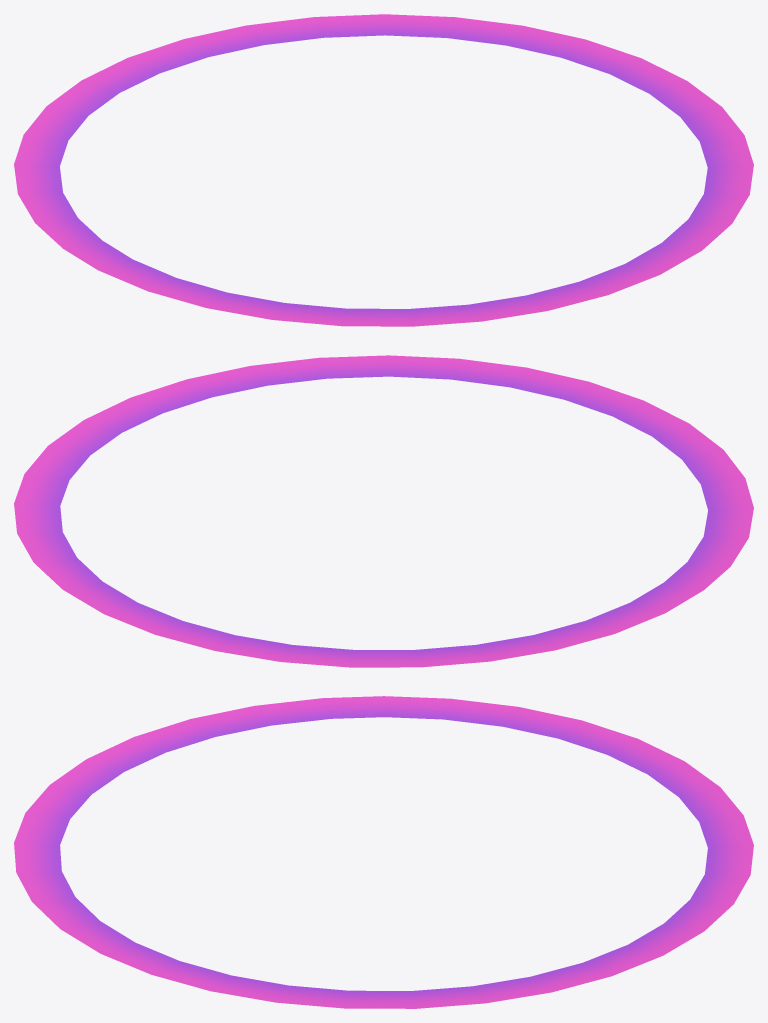
The model's file is ring-v1.fbx.
3 renders of one model, top to bottom at view 1: azimuth 30°, elevation 25°; view 2: azimuth 150°, elevation 25°; view 3: azimuth 270°, elevation 25°, orthographic.
Visible parts, largest first — view 1: Plane.001; view 2: Plane.001; view 3: Plane.001.
Boxes of the visible parts, x1,y1,x2,y2 form: Plane.001: (14,14,753,326); Plane.001: (14,355,753,667); Plane.001: (14,696,753,1008).
Bounding box in the file's own units: 100 × 0.2504 × 100.
1 material, 1 textured.
